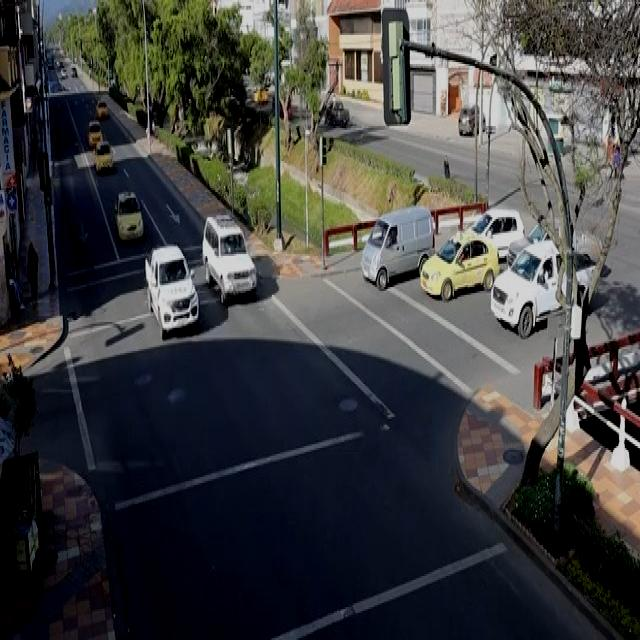CMT: (489, 242, 599, 336), (140, 245, 201, 338)
